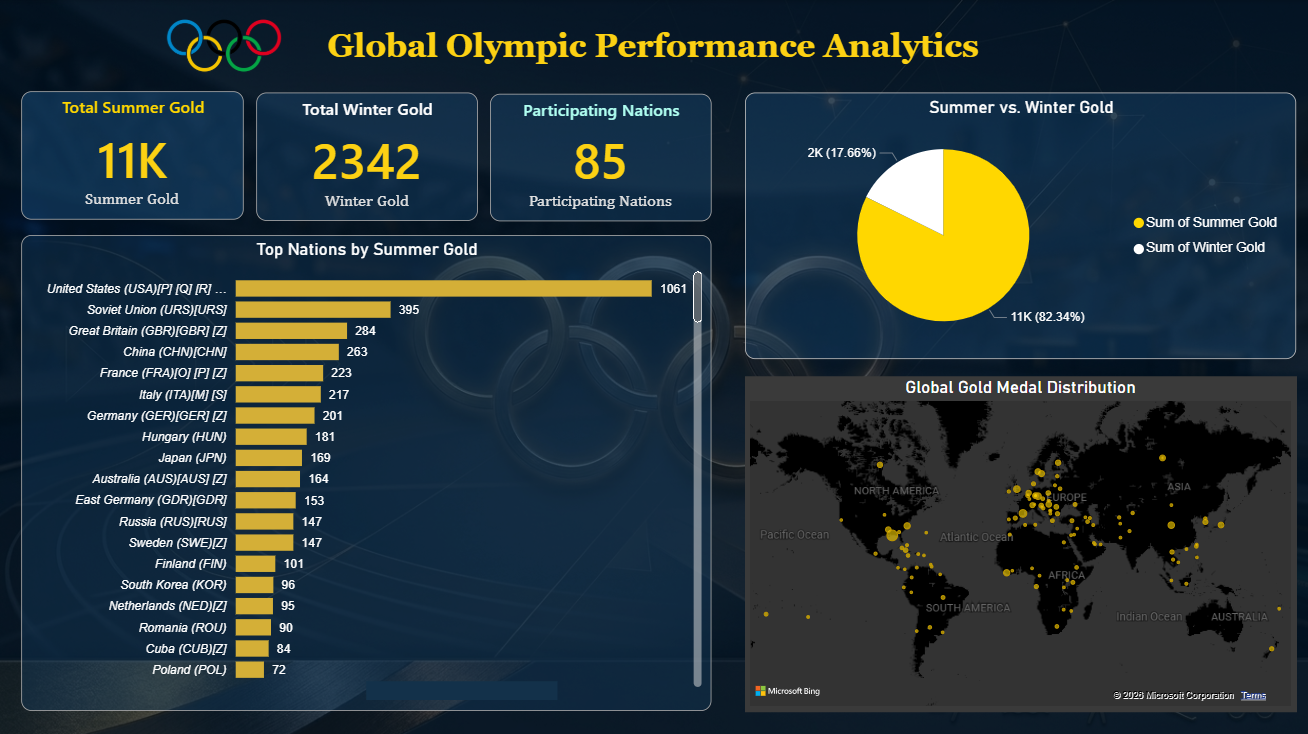

The dashboard page shown, as its layout file describes it:
{"tool":"powerbi","page":{"name":"Page 1","canvas":[1280,720],"ordinal":0},"visuals":[{"type":"shape","box":[238.5,0,801,89.3],"z":0},{"type":"card","title":"Total Summer Gold","fields":{"Values":["Sum(Olympic medal.Summer Gold)"]},"box":[20.8,89.3,217.7,126],"z":1000},{"type":"card","title":"Total Winter Gold","fields":{"Values":["Sum(Olympic medal.Winter Gold)"]},"box":[250.7,90.5,216.4,126],"z":2000},{"type":"card","title":"Participating Nations","fields":{"Values":["Count(Olympic medal.Combined Total)"]},"box":[479.4,91.7,216.4,124.7],"z":3000},{"type":"barChart","title":"Top Nations by Summer Gold","fields":{"Y":["Sum(Olympic medal.Summer Gold)"],"Category":["Olympic medal.Team"]},"box":[20.8,229.9,675,465.9],"z":4000},{"type":"shape","box":[358.3,666.4,187.1,18.3],"z":5000},{"type":"map","title":"Global Gold Medal Distribution","fields":{"Size":["Sum(Olympic medal.Combined Gold)"],"Category":["Olympic medal.Team"]},"box":[728.8,368.1,539.3,327.7],"z":6000},{"type":"pieChart","title":"Summer vs. Winter Gold","fields":{"Y":["Sum(Olympic medal.Summer Gold)","Sum(Olympic medal.Winter Gold)"]},"box":[728.8,90.5,539.3,260.5],"z":7000},{"type":"image","box":[129.6,11,179.8,67.3],"z":7001}]}

Visuals, with their boxes in screenshot pixels (x1, y1, x2, y2), scaled from the page's 1280x720 canvas onto the 1308x734 screenshot:
shape: region(244, 0, 1062, 91)
"Total Summer Gold" card: region(21, 91, 244, 219)
"Total Winter Gold" card: region(256, 92, 477, 221)
"Participating Nations" card: region(490, 93, 711, 221)
"Top Nations by Summer Gold" barChart: region(21, 234, 711, 709)
shape: region(366, 679, 557, 698)
"Global Gold Medal Distribution" map: region(745, 375, 1296, 709)
"Summer vs. Winter Gold" pieChart: region(745, 92, 1296, 358)
image: region(132, 11, 316, 80)
